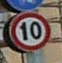limite 10: (8, 12, 51, 51)
